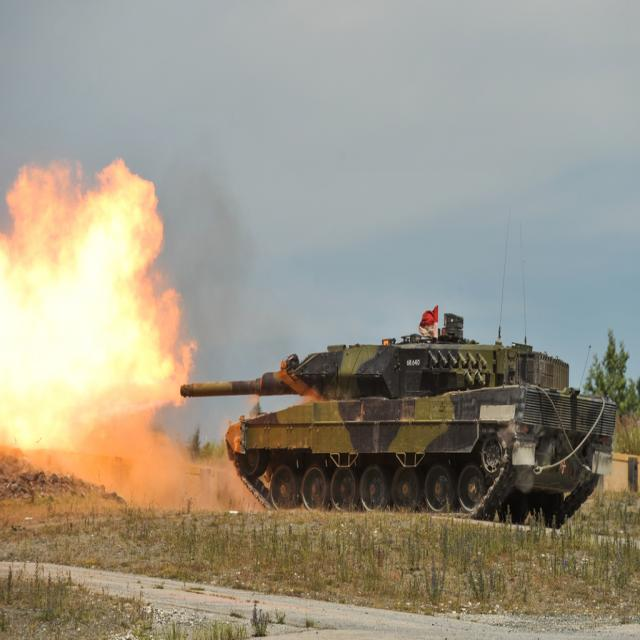tank: (179, 210, 616, 527)
